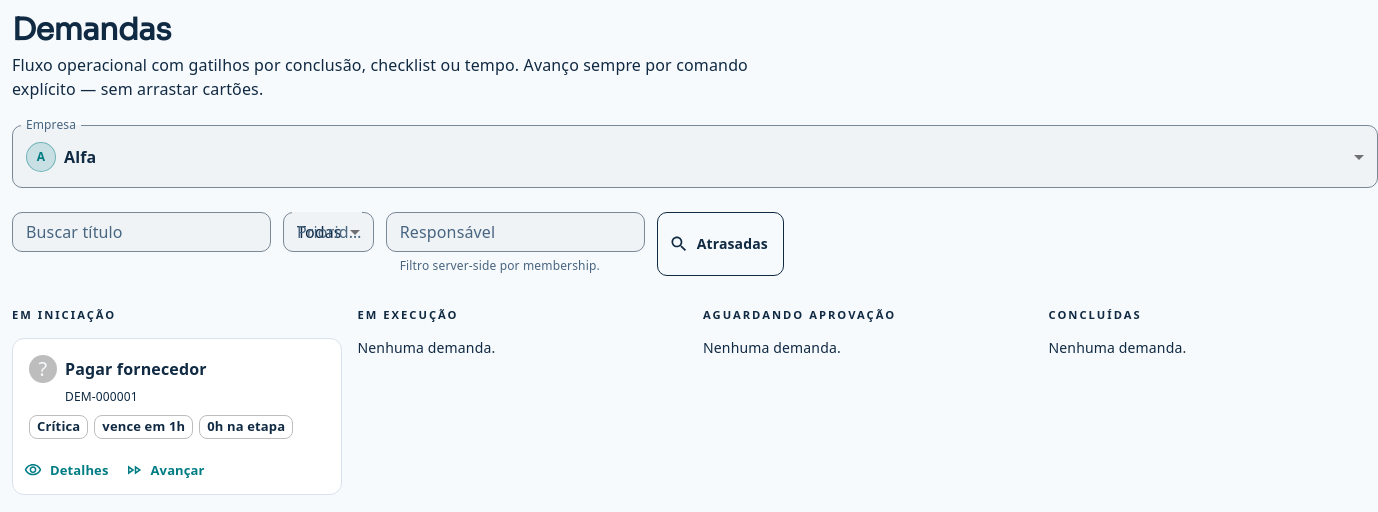
Scenario: DemandasPage › clears the previous company board and detail synchronously on switch
Check: the heading "Pagar fornecedor" is shown, box [65,358,207,380]
Click the dropdown named "Empresa" at (61, 157), box [26,142,96,172]
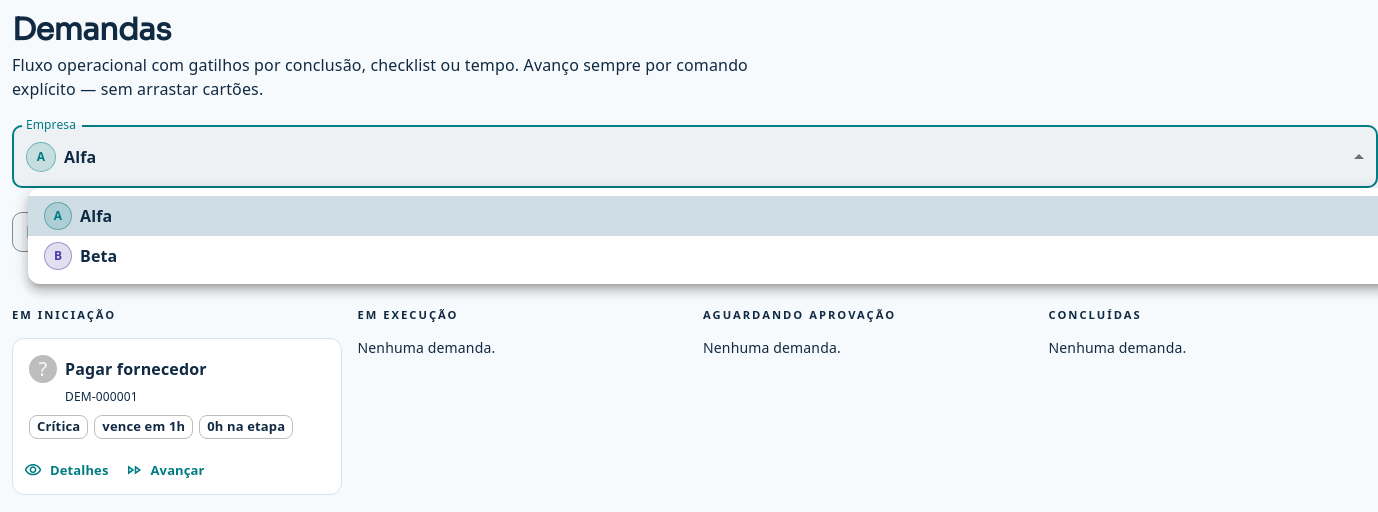
Click the option "B Beta" at (81, 256), box [44,242,117,270]
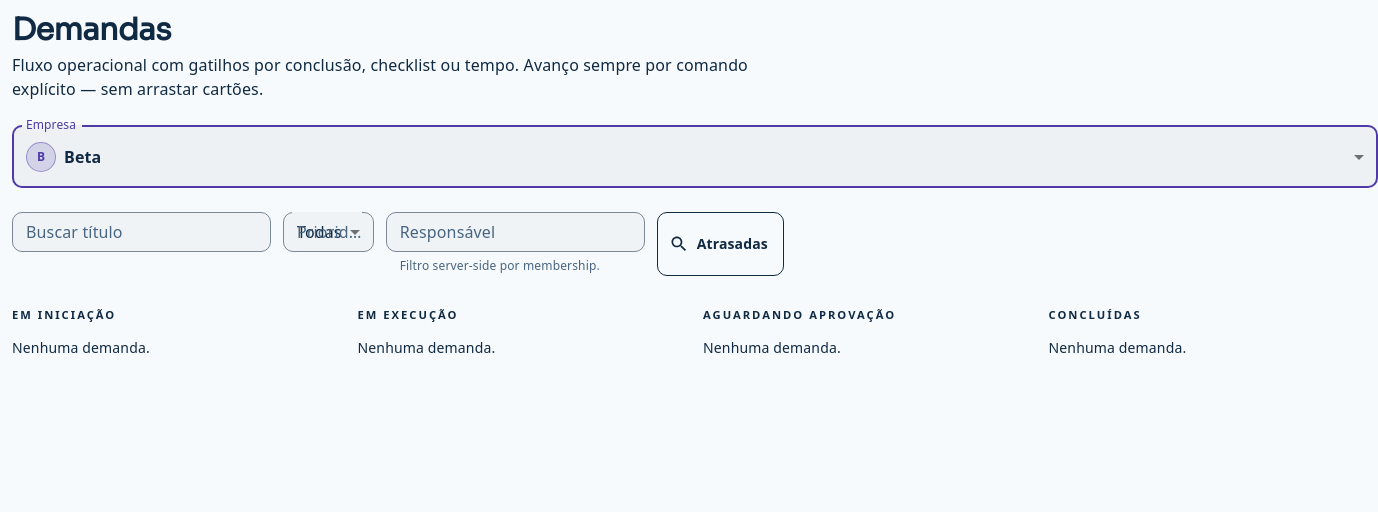
Check: the heading "Pagar fornecedor" is gone
